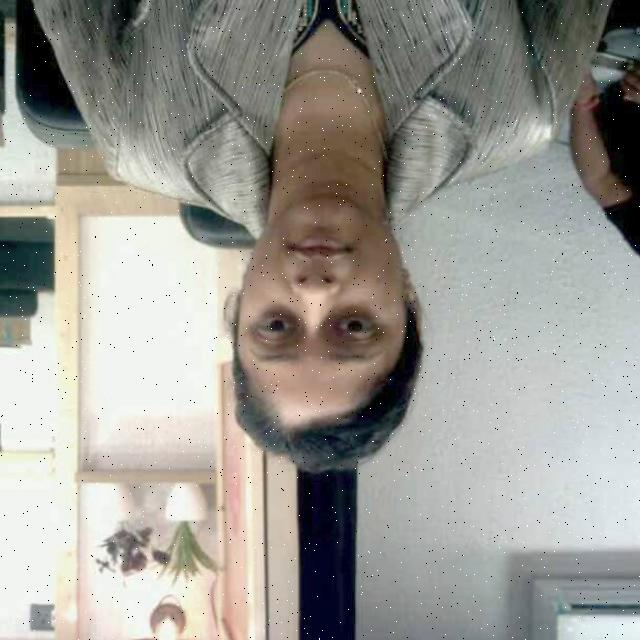puffy_eyes: (333, 306, 377, 322), (261, 306, 296, 322)
